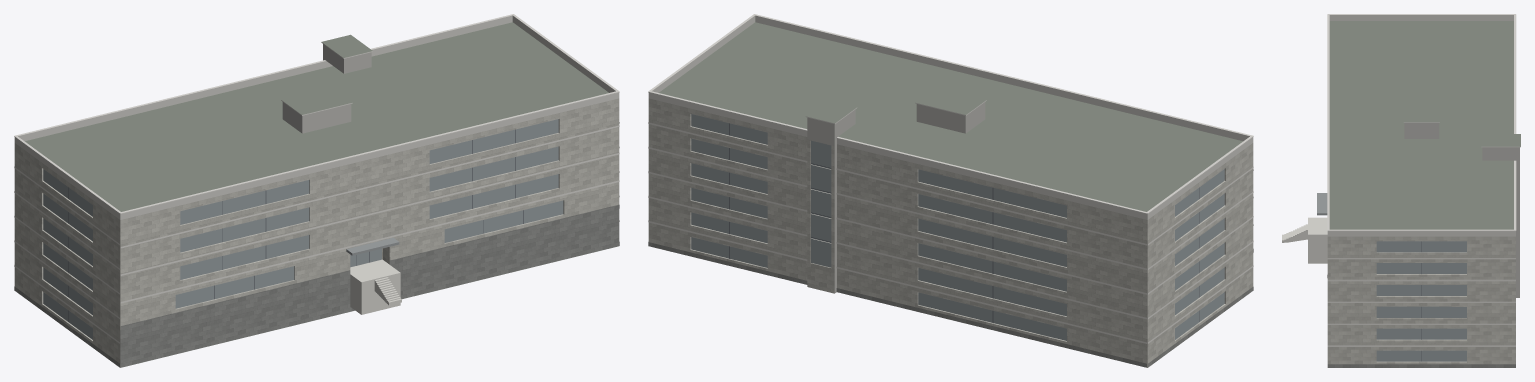
3 views of the same model, side by side, from view 1: azimuth 30°, elevation 25°; view 2: azimuth 150°, elevation 25°; view 3: azimuth 270°, elevation 25° (orthographic). The views are drawn at different scales.
Parts seen in each view (by area): view 1: dental86__wall, dental86__roof, dental86__base, dental86__glass, dental86__parapet, dental86__trim, dental86__entranceStair, dental86__wall2; view 2: dental86__wall, dental86__roof, dental86__glass, dental86__trim, dental86__parapet, dental86__base, dental86__wall2; view 3: dental86__roof, dental86__wall, dental86__glass, dental86__trim, dental86__parapet, dental86__wall2, dental86__entranceStair, dental86__base, dental86__canopy.
Part boxes in pixels (x1,y1,x2,y2): dental86__wall: [14, 98, 619, 367]; dental86__roof: [25, 22, 615, 366]; dental86__base: [14, 204, 619, 367]; dental86__glass: [43, 119, 563, 339]; dental86__parapet: [14, 15, 619, 219]; dental86__trim: [14, 14, 619, 343]; dental86__entranceStair: [350, 259, 401, 314]; dental86__wall2: [282, 44, 371, 133]; dental86__wall: [648, 98, 1253, 367]; dental86__roof: [659, 22, 1242, 211]; dental86__glass: [691, 114, 1224, 340]; dental86__trim: [648, 14, 1253, 343]; dental86__parapet: [648, 15, 1253, 219]; dental86__base: [648, 242, 1253, 367]; dental86__wall2: [807, 102, 985, 293]; dental86__roof: [1329, 21, 1520, 229]; dental86__wall: [1327, 236, 1515, 364]; dental86__glass: [1376, 241, 1466, 361]; dental86__trim: [1327, 14, 1520, 346]; dental86__parapet: [1327, 15, 1515, 236]; dental86__wall2: [1404, 123, 1519, 297]; dental86__entranceStair: [1282, 217, 1327, 263]; dental86__base: [1327, 275, 1515, 367]; dental86__canopy: [1317, 193, 1327, 215].
Bounding box in the file's own units: 76.49 × 25.01 × 35.61.
Materials: 11 (2 with a texture image).
